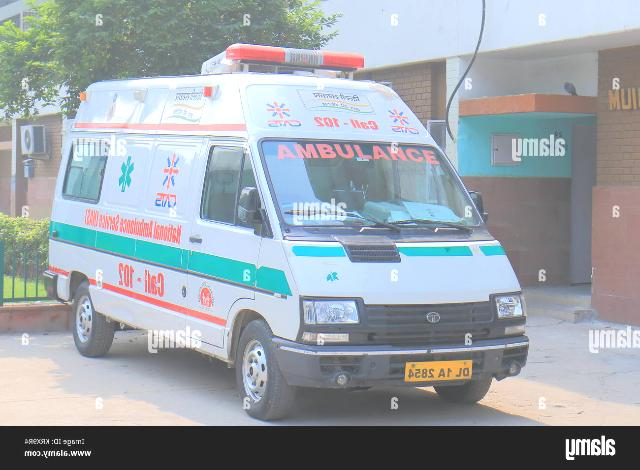ambulance: (40, 40, 531, 419)
